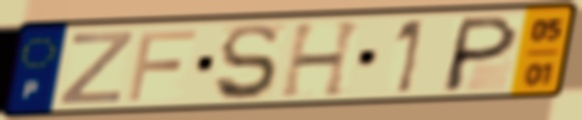1: (391, 17, 427, 96)
F: (124, 27, 200, 104)
H: (277, 18, 368, 101)
P: (437, 12, 523, 94)
S: (211, 21, 281, 103)
Z: (55, 28, 137, 106)
